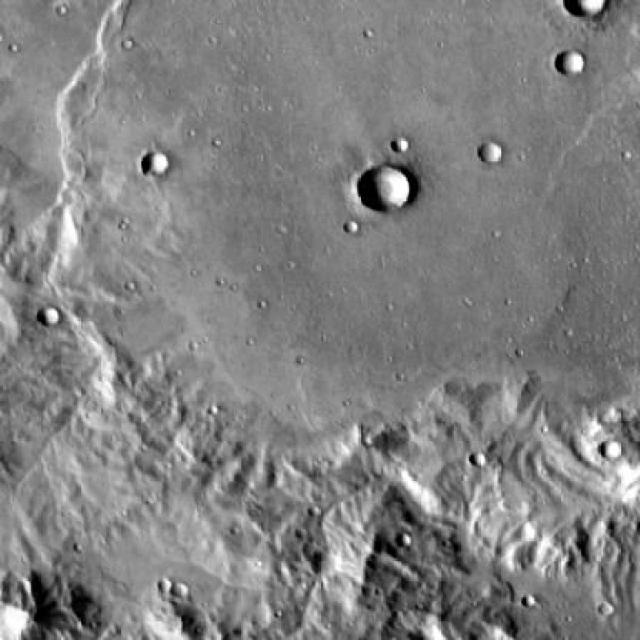crater: (359, 164, 415, 213), (140, 149, 172, 176), (556, 53, 584, 76), (600, 438, 622, 458), (479, 144, 501, 162), (38, 308, 59, 326)
